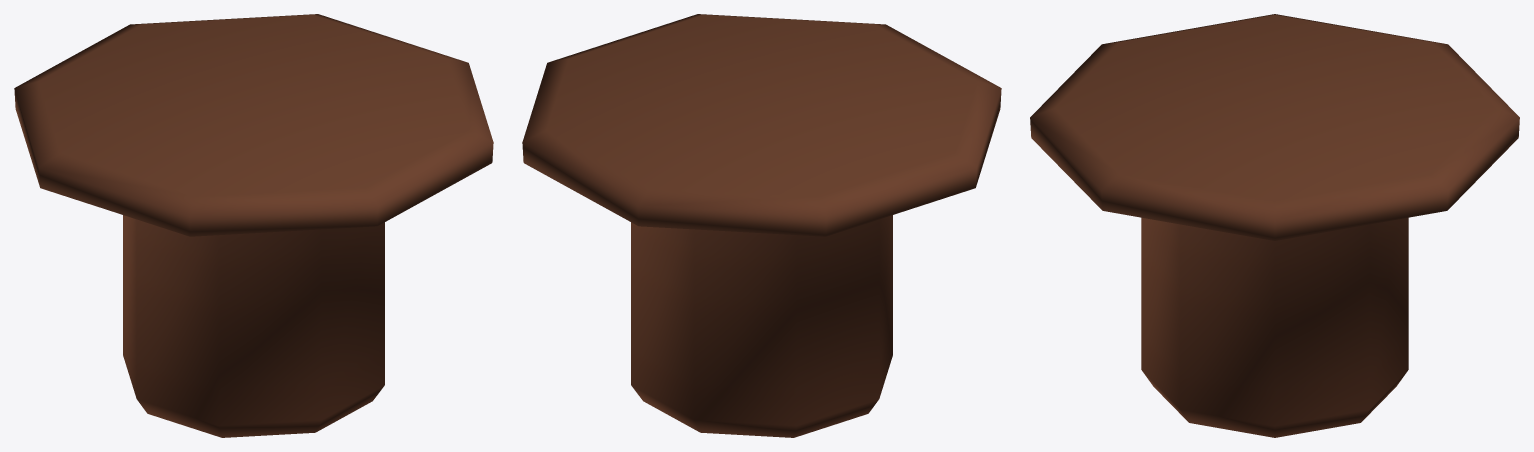
File: Table_Circular.gltf
3 views of the same model, side by side, from view 1: azimuth 30°, elevation 25°; view 2: azimuth 150°, elevation 25°; view 3: azimuth 270°, elevation 25° (orthographic).
Parts seen in each view (by area): view 1: Table_Circular; view 2: Table_Circular; view 3: Table_Circular.
Boxes of the visible parts, left/top/right/bottom form: Table_Circular: left=14, top=14, right=493, bottom=437; Table_Circular: left=522, top=14, right=1001, bottom=437; Table_Circular: left=1030, top=14, right=1519, bottom=437.
Bounding box in the file's own units: 1.14 × 0.7136 × 1.14.
Materials: 1 (1 with a texture image).
